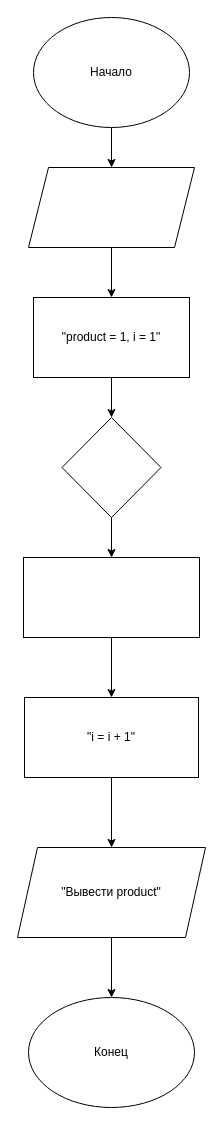
The diagram is 223 pixels wide and 1125 high, and some of its shapes have lost their labels. Each missing label, with the box of its shape:
"i <= n?": (61, 416, 161, 518)
"product = product * (i ** 2)": (22, 556, 200, 638)
Ввод(n=5): (28, 166, 194, 248)
